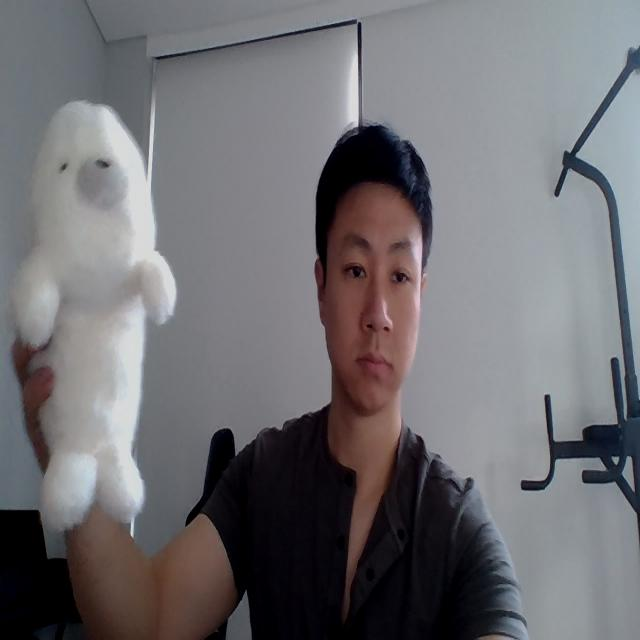seal_bb: (12, 100, 178, 532)
